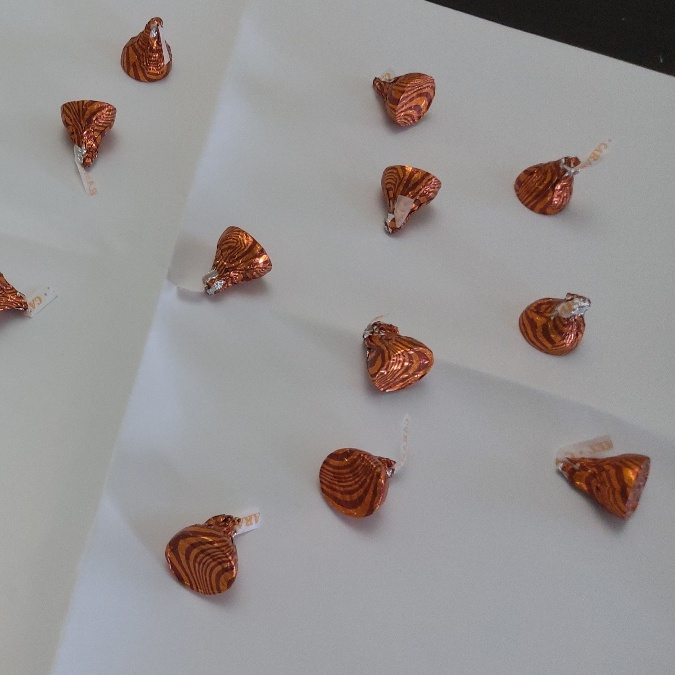chocolate_gold: (555, 443, 646, 532), (315, 442, 402, 521), (166, 511, 253, 590), (195, 223, 282, 301), (357, 317, 433, 398), (518, 285, 592, 365), (376, 162, 438, 236), (61, 97, 116, 176), (118, 22, 179, 82), (372, 70, 433, 129), (521, 156, 582, 215)
